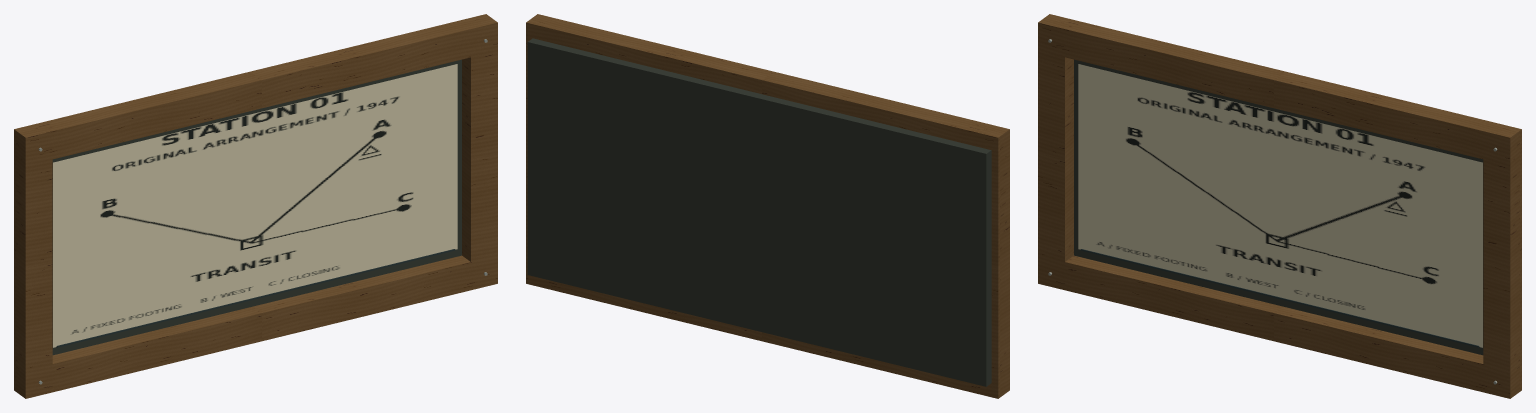
Rendered from SM_FieldKit_Diagram_LOD1.fbx.
The picture shows the model from 3 angles, left to right: view 1: azimuth 30°, elevation 25°; view 2: azimuth 150°, elevation 25°; view 3: azimuth 330°, elevation 25°; orthographic projection.
Parts seen in each view (by area): view 1: SM_FieldKit_Diagram_LOD1; view 2: SM_FieldKit_Diagram_LOD1; view 3: SM_FieldKit_Diagram_LOD1.
Part boxes in pixels (bbox=[...]): SM_FieldKit_Diagram_LOD1: bbox=[14, 14, 497, 398]; SM_FieldKit_Diagram_LOD1: bbox=[526, 14, 1009, 398]; SM_FieldKit_Diagram_LOD1: bbox=[1038, 14, 1521, 398].
Bounding box in the file's own units: 0.7 × 0.048 × 0.37.
